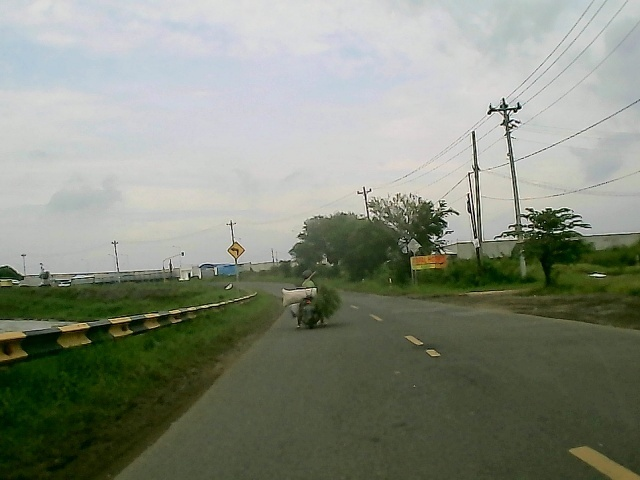Tikungan tajam ke kiri: (225, 239, 245, 260)
